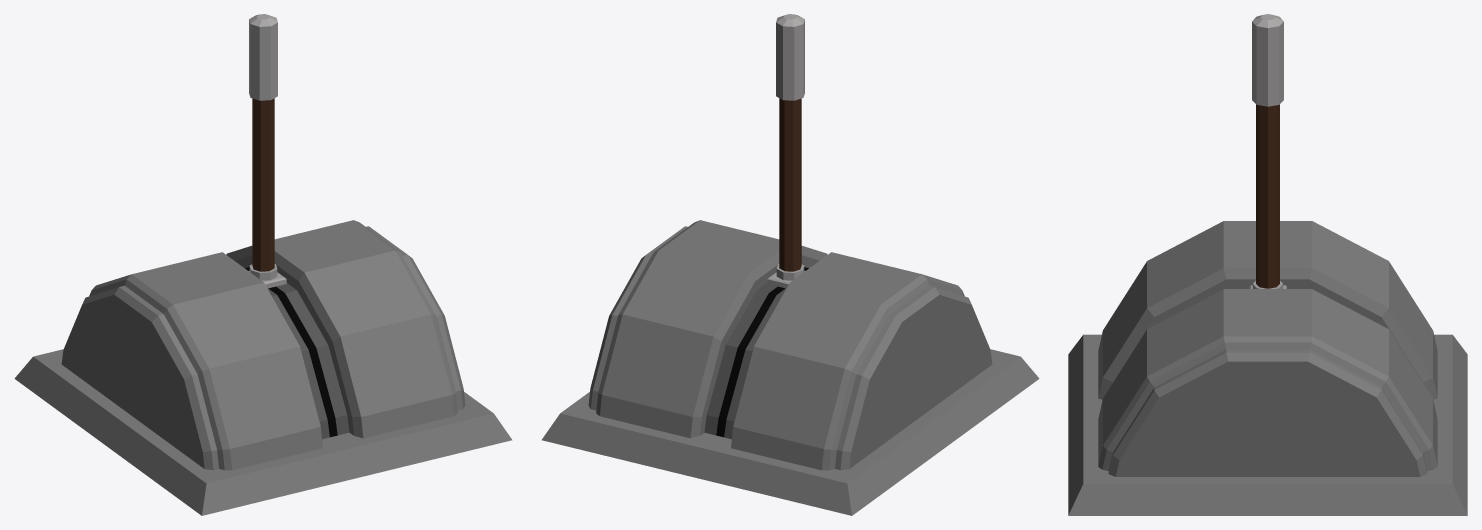
The model's file is StoneFloorLever_2.fbx.
3 renders of one model, left to right at view 1: azimuth 30°, elevation 25°; view 2: azimuth 150°, elevation 25°; view 3: azimuth 270°, elevation 25°, orthographic. The views are drawn at different scales.
Visible parts, largest first — view 1: StoneFloorLever_2_Casing, StoneFloorLever_2_Handle; view 2: StoneFloorLever_2_Casing, StoneFloorLever_2_Handle; view 3: StoneFloorLever_2_Casing, StoneFloorLever_2_Handle.
Boxes of the visible parts, x1,y1,x2,y2 form: StoneFloorLever_2_Casing: [14, 220, 512, 515]; StoneFloorLever_2_Handle: [249, 14, 286, 288]; StoneFloorLever_2_Casing: [541, 220, 1039, 515]; StoneFloorLever_2_Handle: [767, 14, 804, 288]; StoneFloorLever_2_Casing: [1068, 221, 1467, 515]; StoneFloorLever_2_Handle: [1249, 14, 1286, 288].
Bounding box in the file's own units: 74.94 × 90.5 × 78.35.
